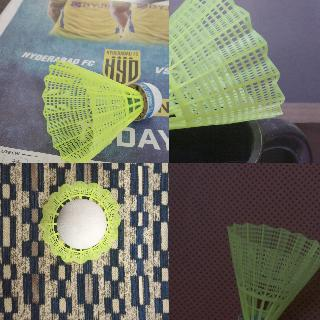shuttlecock: (169, 0, 285, 160), (41, 60, 161, 162), (225, 222, 319, 319), (40, 180, 120, 264)
